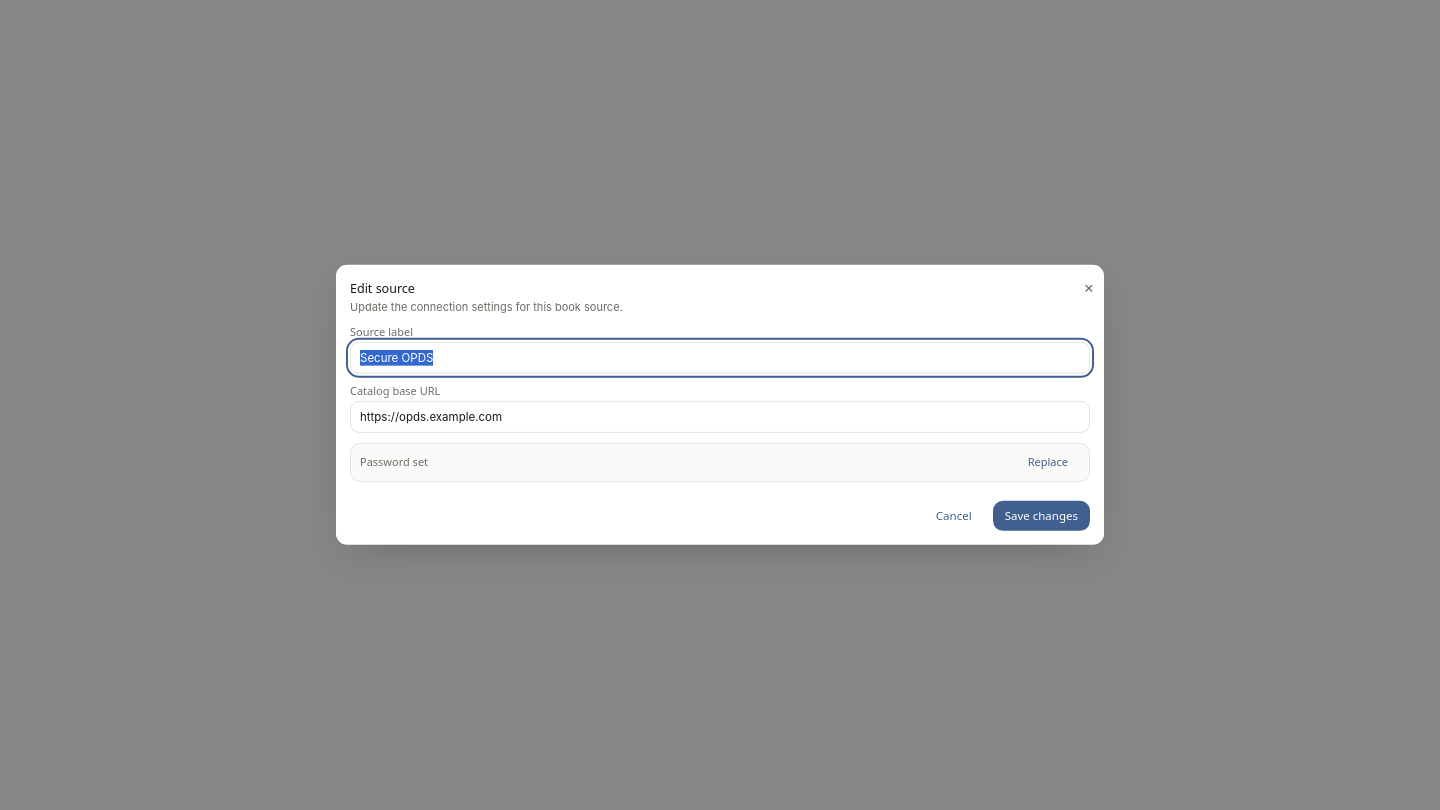
Test: SourceFormDialog › renders Password set static text in edit mode with Replace action
The image size is (1440, 810).
Expected: the heading "Edit source" is shown, top-left (350, 280), bottom-right (415, 297)
Expected: the text "Password set" is shown, top-left (360, 455), bottom-right (428, 470)
# Click Replace
Click the button "Replace" at x=1048, y=462, box top-left (1016, 453), bottom-right (1080, 472)
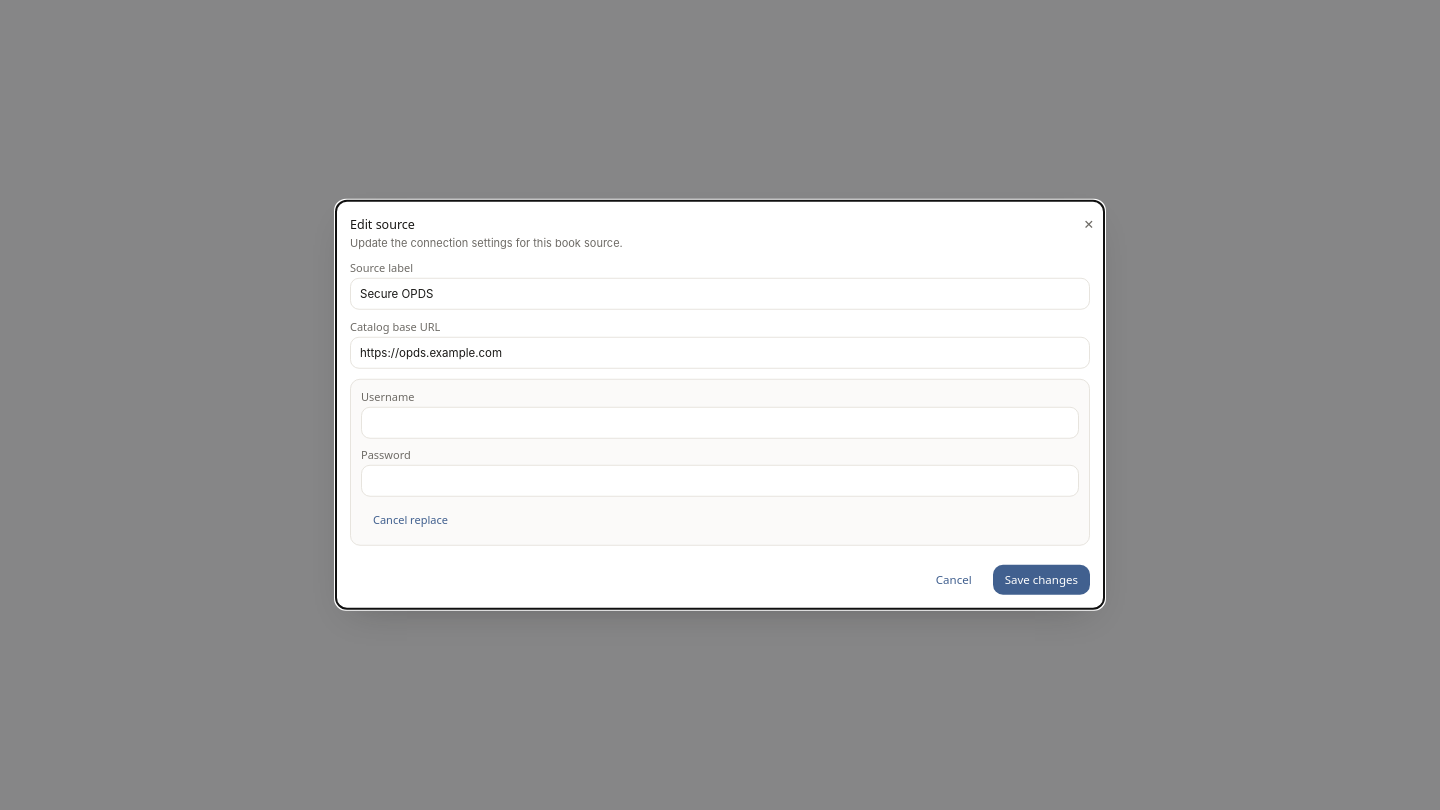
Now the field labelled "Username" is shown, box top-left (361, 407), bottom-right (1079, 439)
Now the password field labelled "Password" is shown, box top-left (361, 465), bottom-right (1079, 497)
